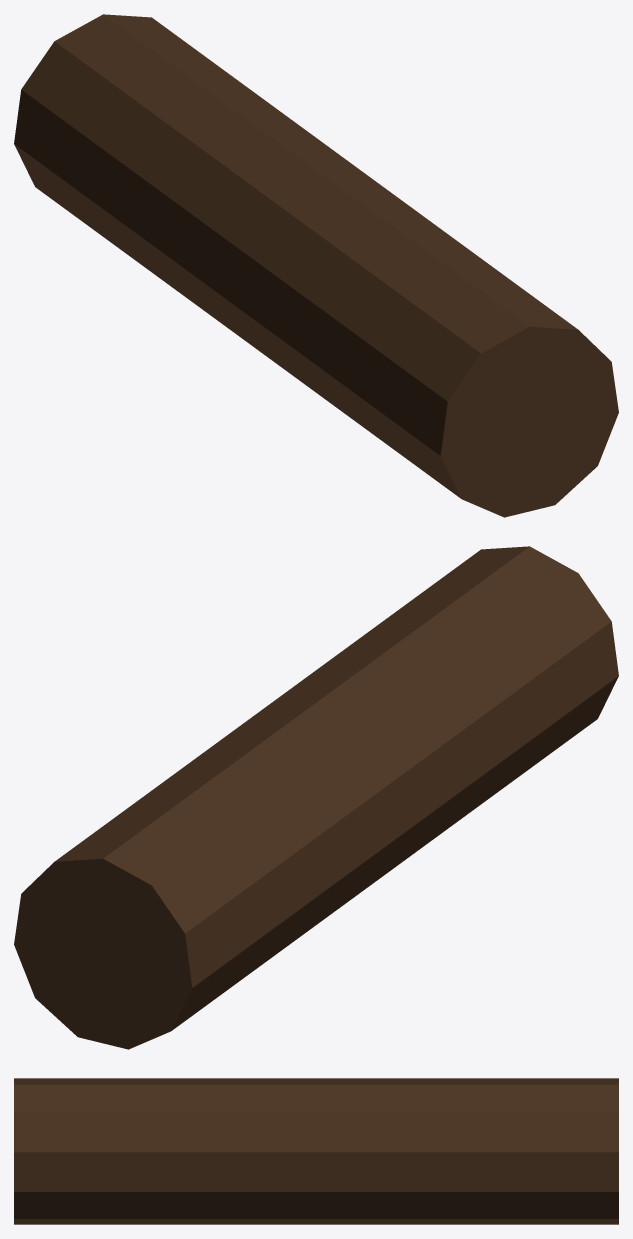
File: woodscraps.fbx
3 views of the same model, one above another, from view 1: azimuth 30°, elevation 25°; view 2: azimuth 150°, elevation 25°; view 3: azimuth 270°, elevation 25° (orthographic). The views are drawn at different scales.
Parts seen in each view (by area): view 1: WoodScraps; view 2: WoodScraps; view 3: WoodScraps.
Part boxes in pixels (x1,y1,x2,y2): WoodScraps: (14,14,618,517); WoodScraps: (14,546,618,1049); WoodScraps: (14,1078,618,1224).
Bounding box in the file's own units: 90.77 × 89.84 × 376.
